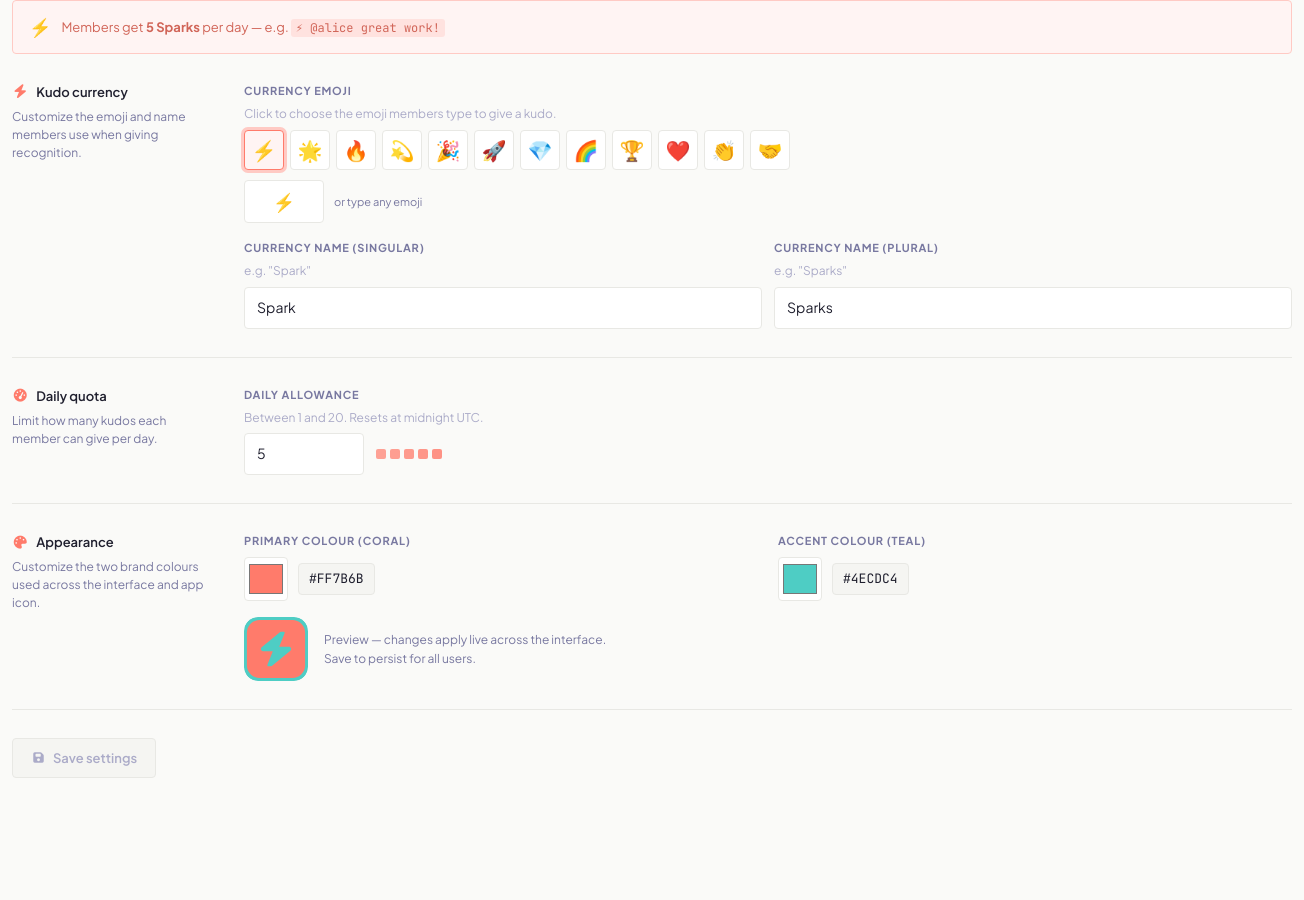
Test: AdminSettingsForm – validation › discard button resets to initial values
Clear the field labelled "Currency emoji": (284, 201) [244,180,324,223]
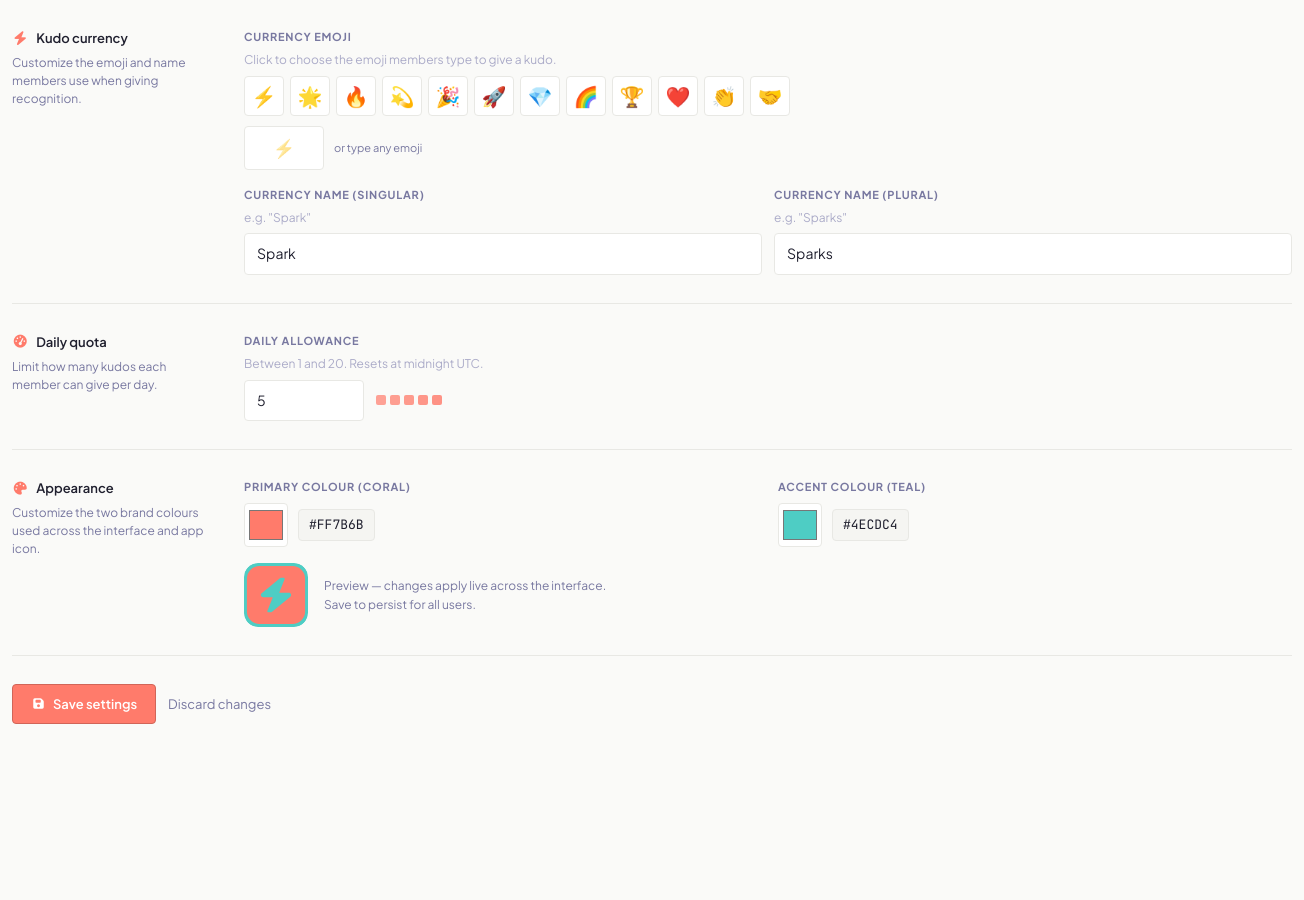
In the field labelled "Currency emoji": (284, 148) [244,126,324,170], type "🌮"
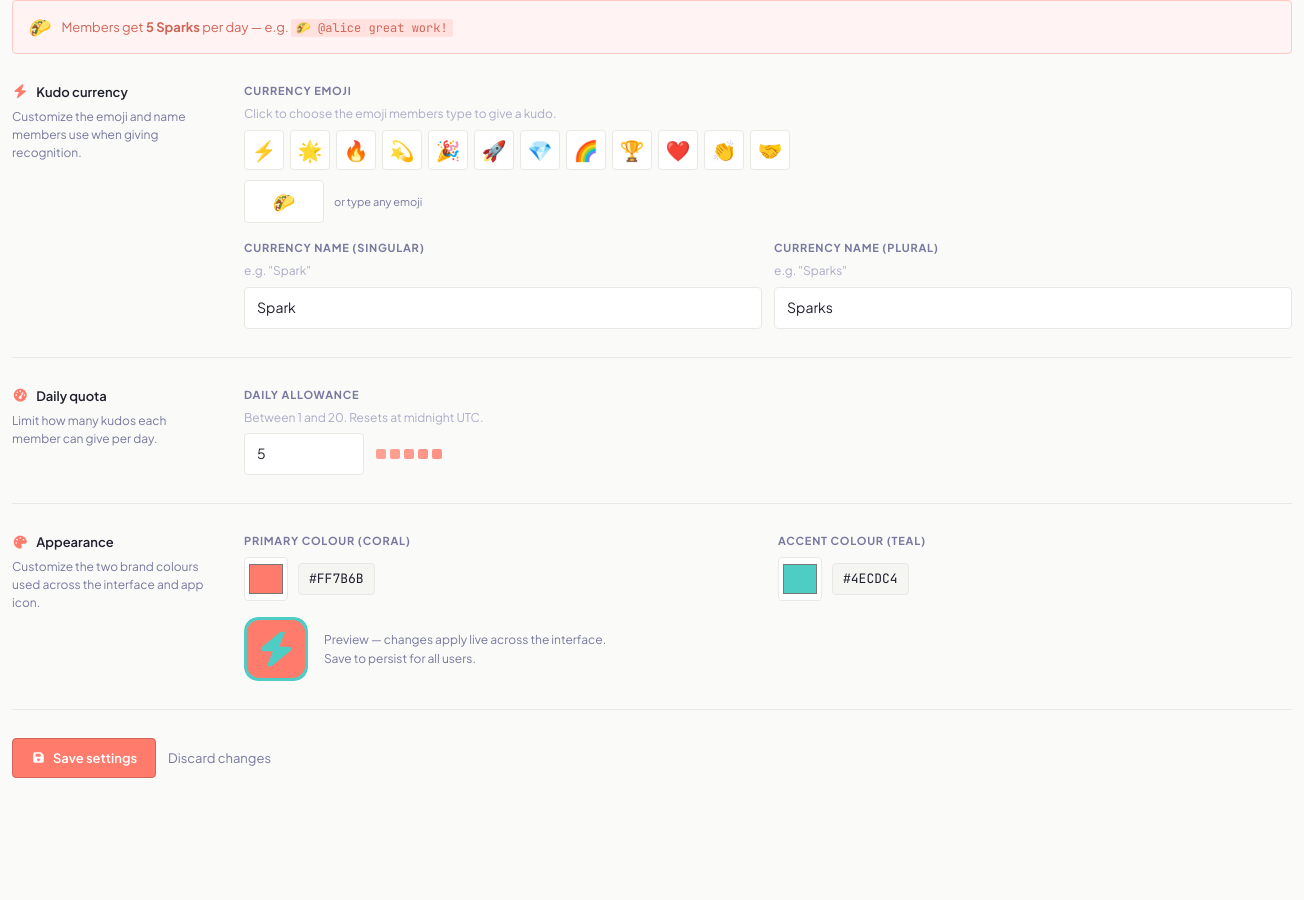
Click the button "Discard changes": (220, 758) [168,748,271,768]
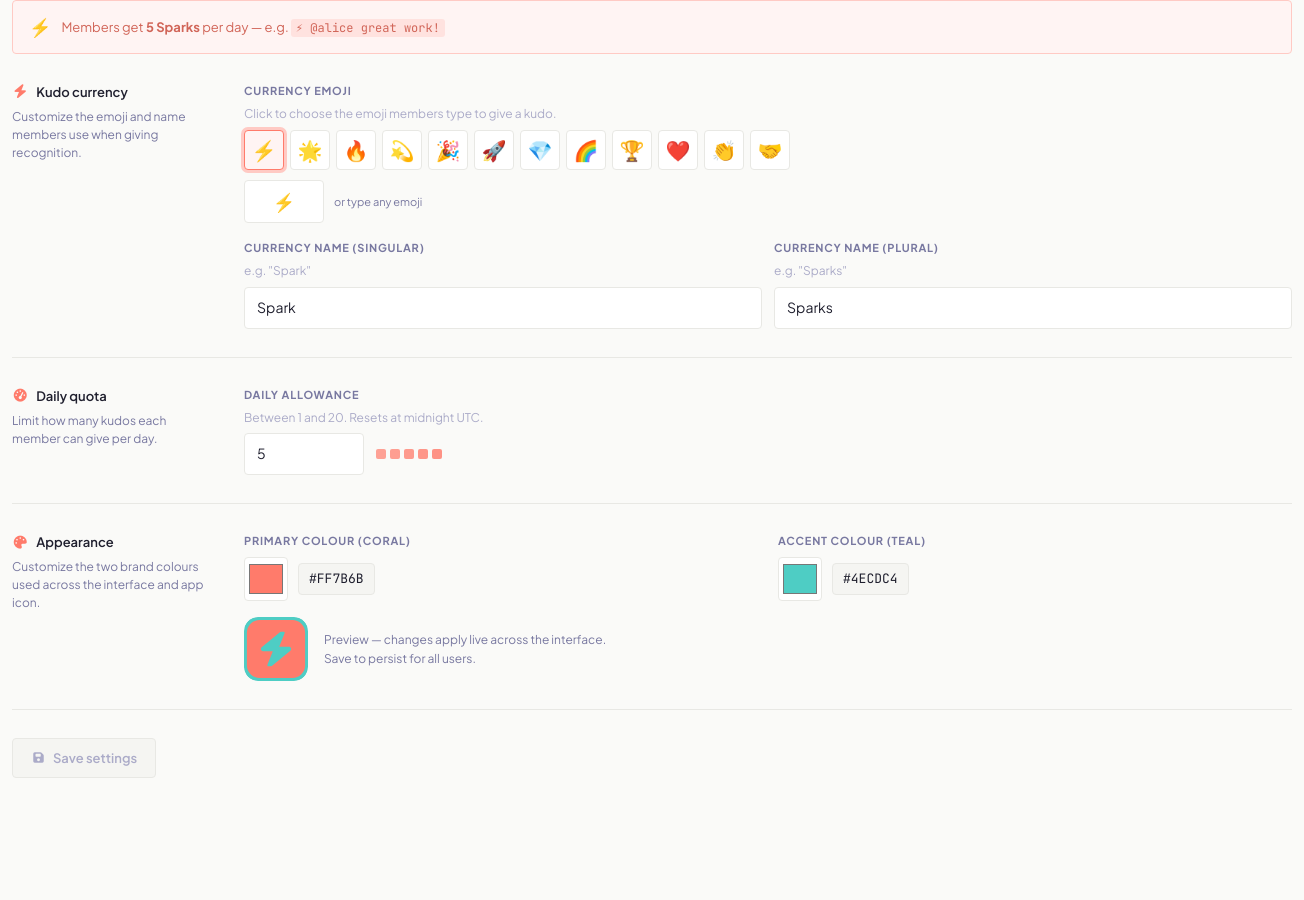
Expected: the field labelled "Currency emoji" holds "⚡", [244,180,324,223]
Expected: the button "Discard changes" is gone
